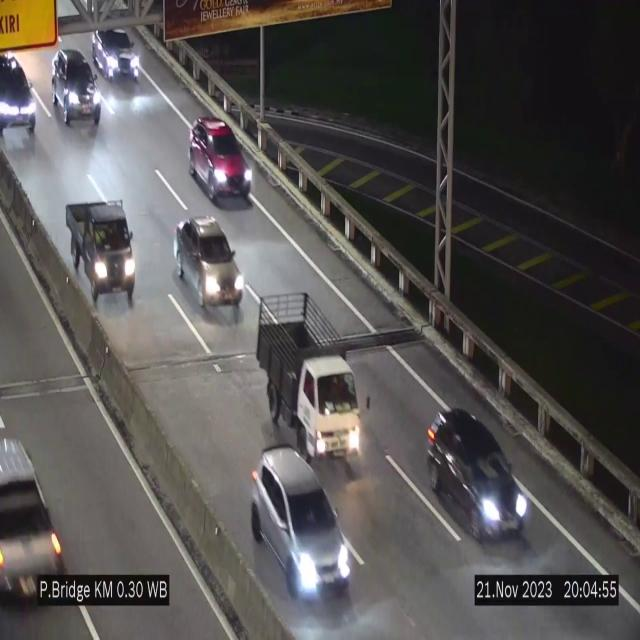Car: (251, 444, 352, 600), (0, 419, 74, 608), (426, 408, 530, 540), (171, 215, 247, 315), (189, 118, 251, 205), (87, 5, 145, 95), (50, 44, 104, 129), (0, 50, 46, 148)
Truck: (258, 300, 360, 461), (65, 194, 139, 306)
